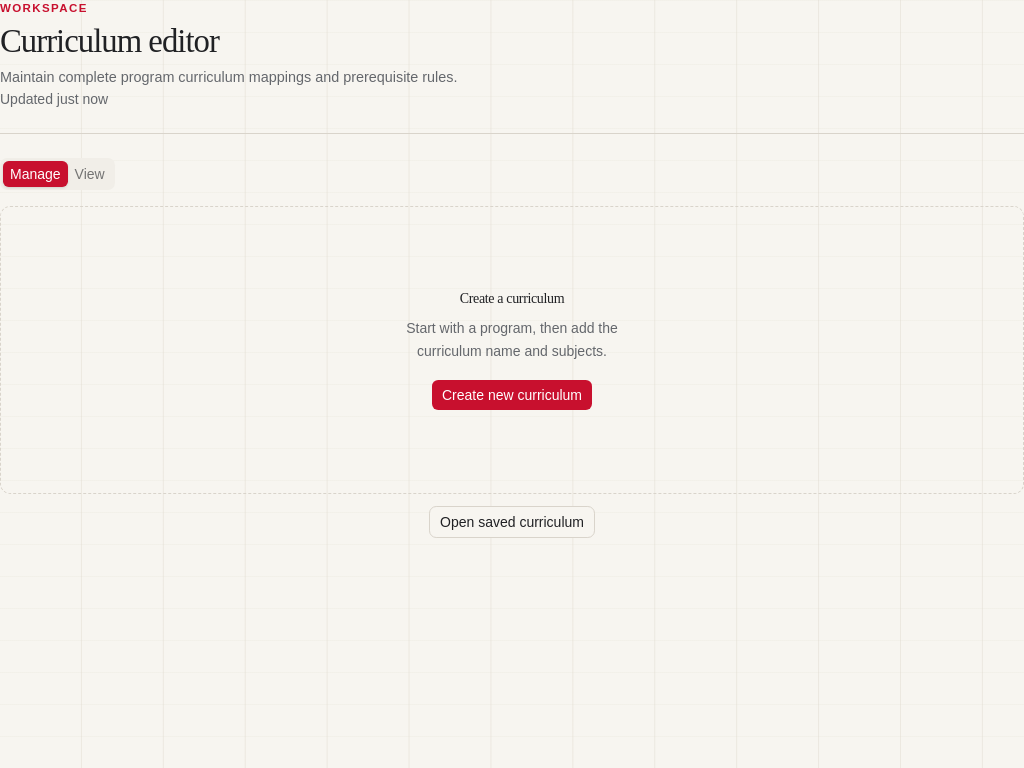
Scenario: CurriculumWorkspace › allows editing only Draft curricula and ends editing after submitting for Dean review
The image size is (1024, 768).
Click the button "Open saved curriculum": (512, 522) x1=429 y1=506 x2=595 y2=538
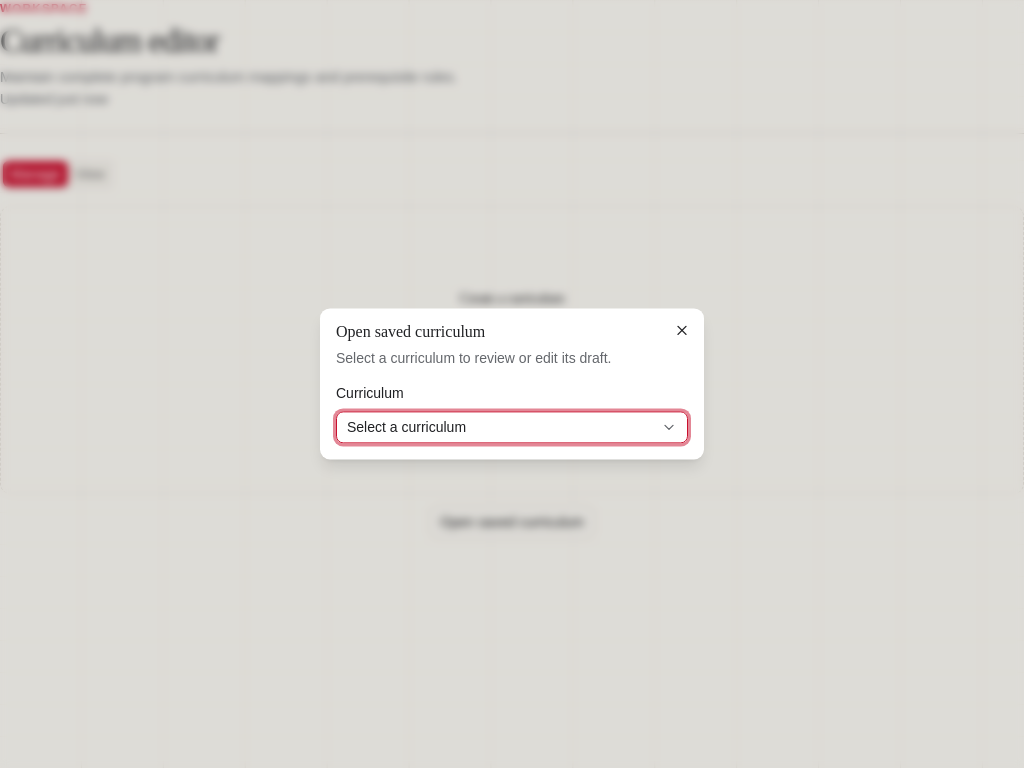
Now the dropdown labelled "curriculum" is enabled
Click the dropdown labelled "curriculum": (407, 428) x1=336 y1=412 x2=688 y2=444
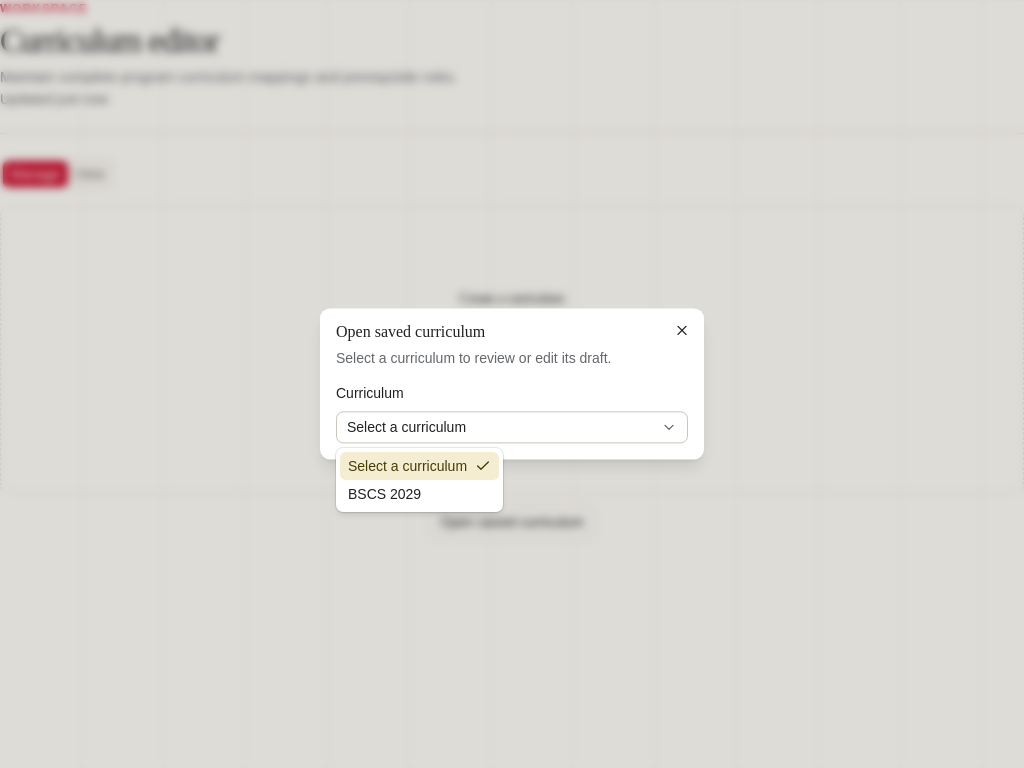
Click the option "BSCS 2029": (385, 494) x1=348 y1=486 x2=421 y2=502
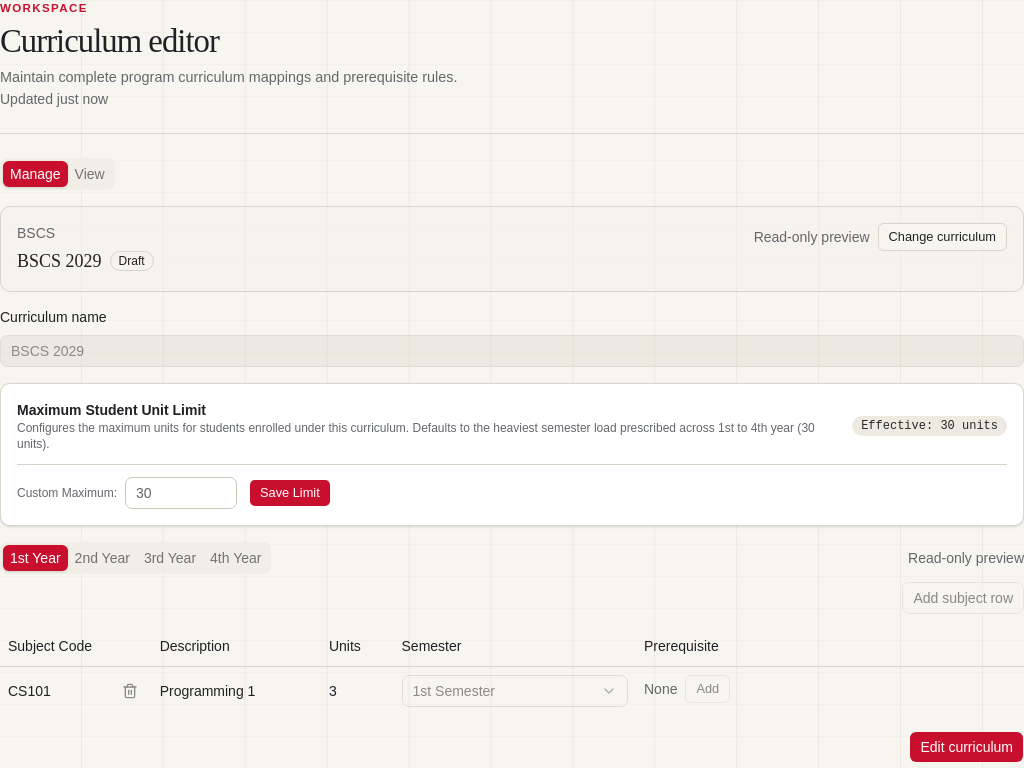
Now the button "Edit curriculum" is shown
Click the button "Edit curriculum": (967, 747) x1=909 y1=731 x2=1023 y2=763
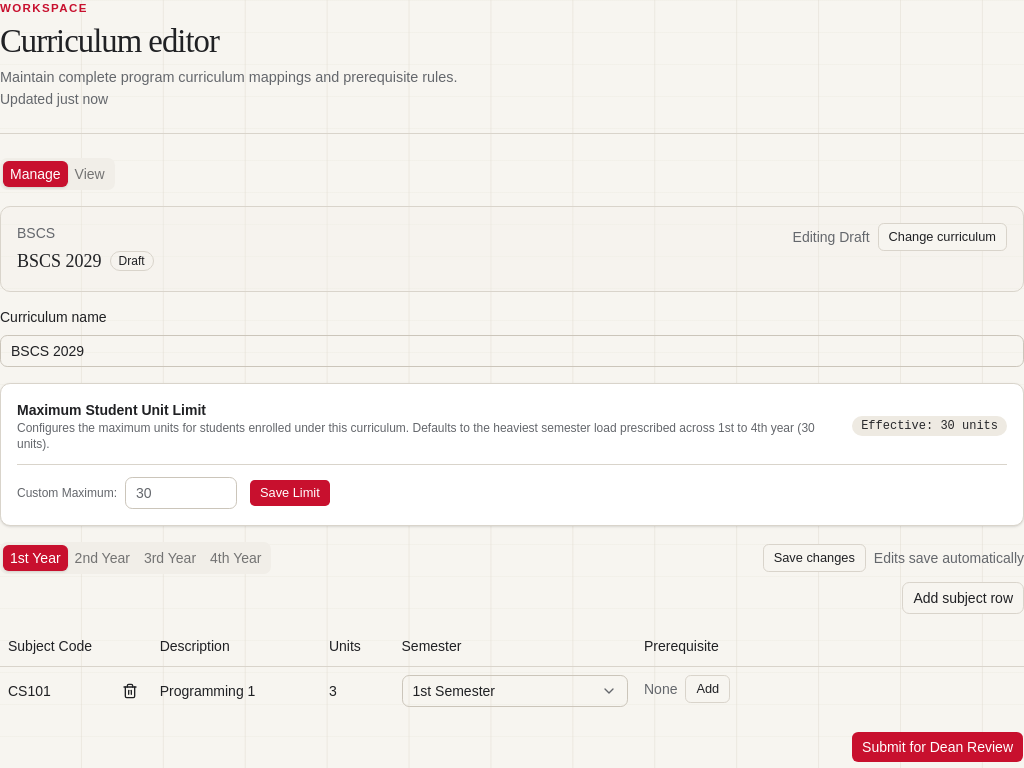
Now the field labelled "Curriculum name" is enabled, box x1=0 y1=335 x2=1023 y2=367
Click the button "Submit for Dean Review": (938, 747) x1=851 y1=731 x2=1023 y2=763
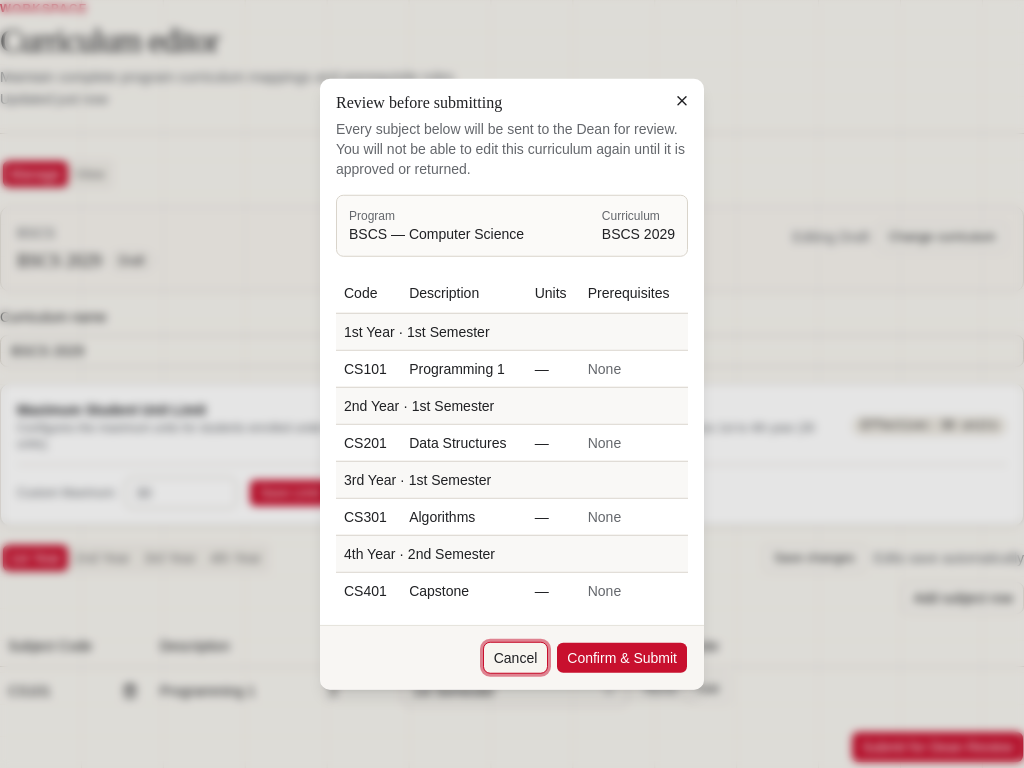
Click the button "Confirm & Submit": (622, 657) x1=556 y1=641 x2=688 y2=673
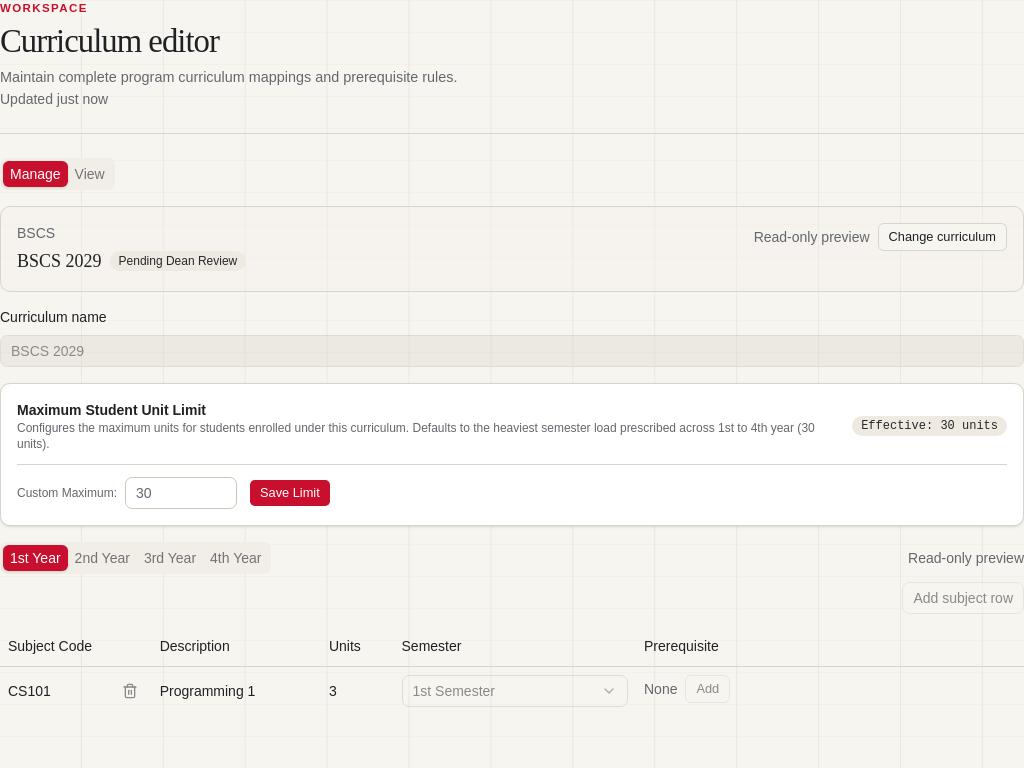
Expected: the button "Edit curriculum" is not shown
Now the text "Pending Dean Review" is shown, box x1=110 y1=251 x2=246 y2=271
Now the field labelled "Curriculum name" is disabled, box x1=0 y1=335 x2=1023 y2=367
